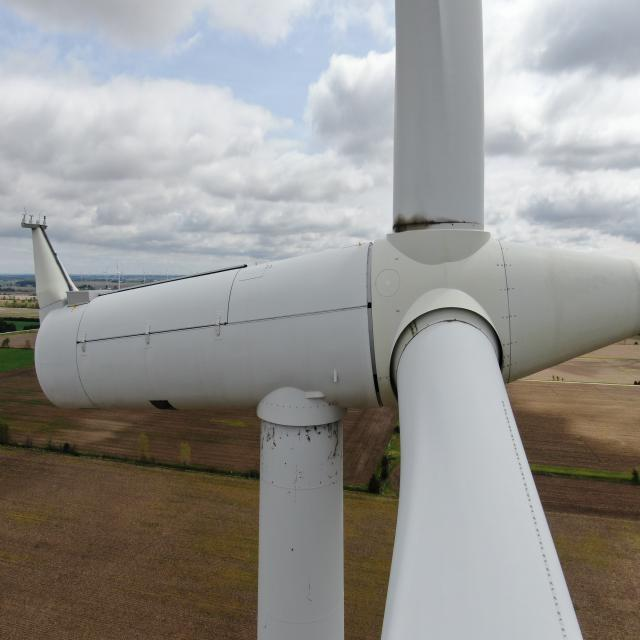damage: (260, 417, 345, 488), (387, 199, 442, 237)
